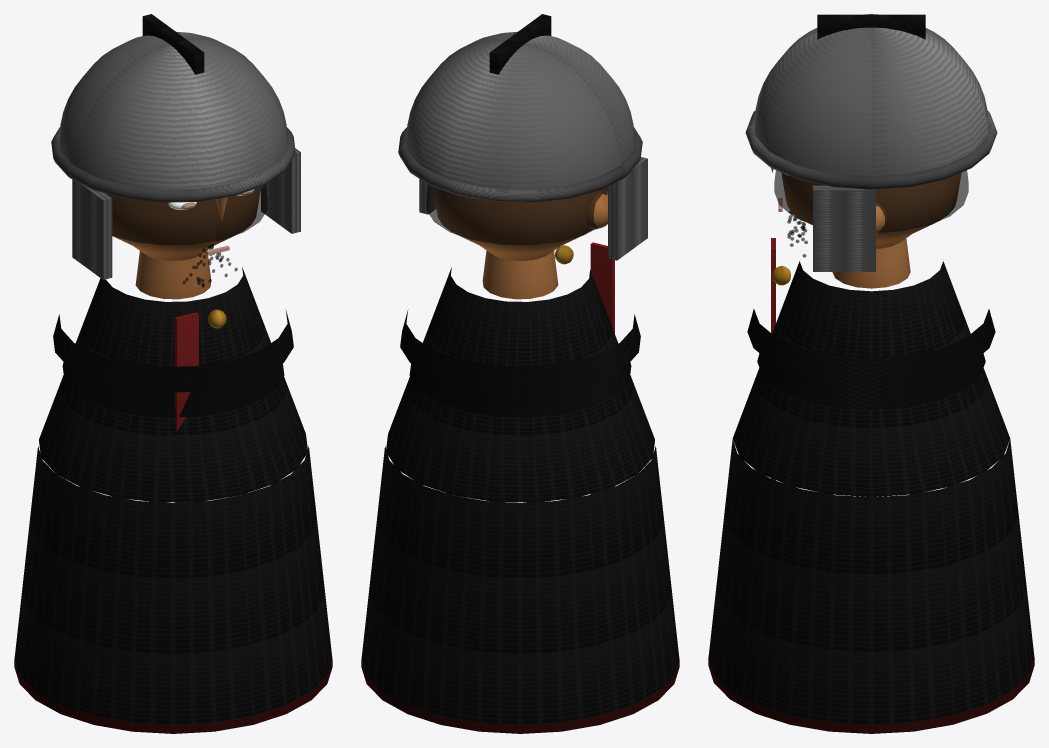
File: marcus.glb
The picture shows the model from 3 angles, left to right: view 1: azimuth 30°, elevation 25°; view 2: azimuth 150°, elevation 25°; view 3: azimuth 270°, elevation 25°; orthographic projection. The views are drawn at different scales.
Parts seen in each view (by area): view 1: Character_marcus_the_guard, head; view 2: Character_marcus_the_guard, head; view 3: Character_marcus_the_guard, head.
Part boxes in pixels (bbox=[...]): Character_marcus_the_guard: bbox=[14, 14, 332, 733]; head: bbox=[107, 187, 260, 260]; Character_marcus_the_guard: bbox=[361, 14, 679, 733]; head: bbox=[433, 187, 607, 260]; Character_marcus_the_guard: bbox=[708, 14, 1034, 733]; head: bbox=[782, 173, 960, 248].
Size of the model in its own units: 0.8221 by 1.8 by 0.8221.
Materials: 15 (11 with a texture image).
